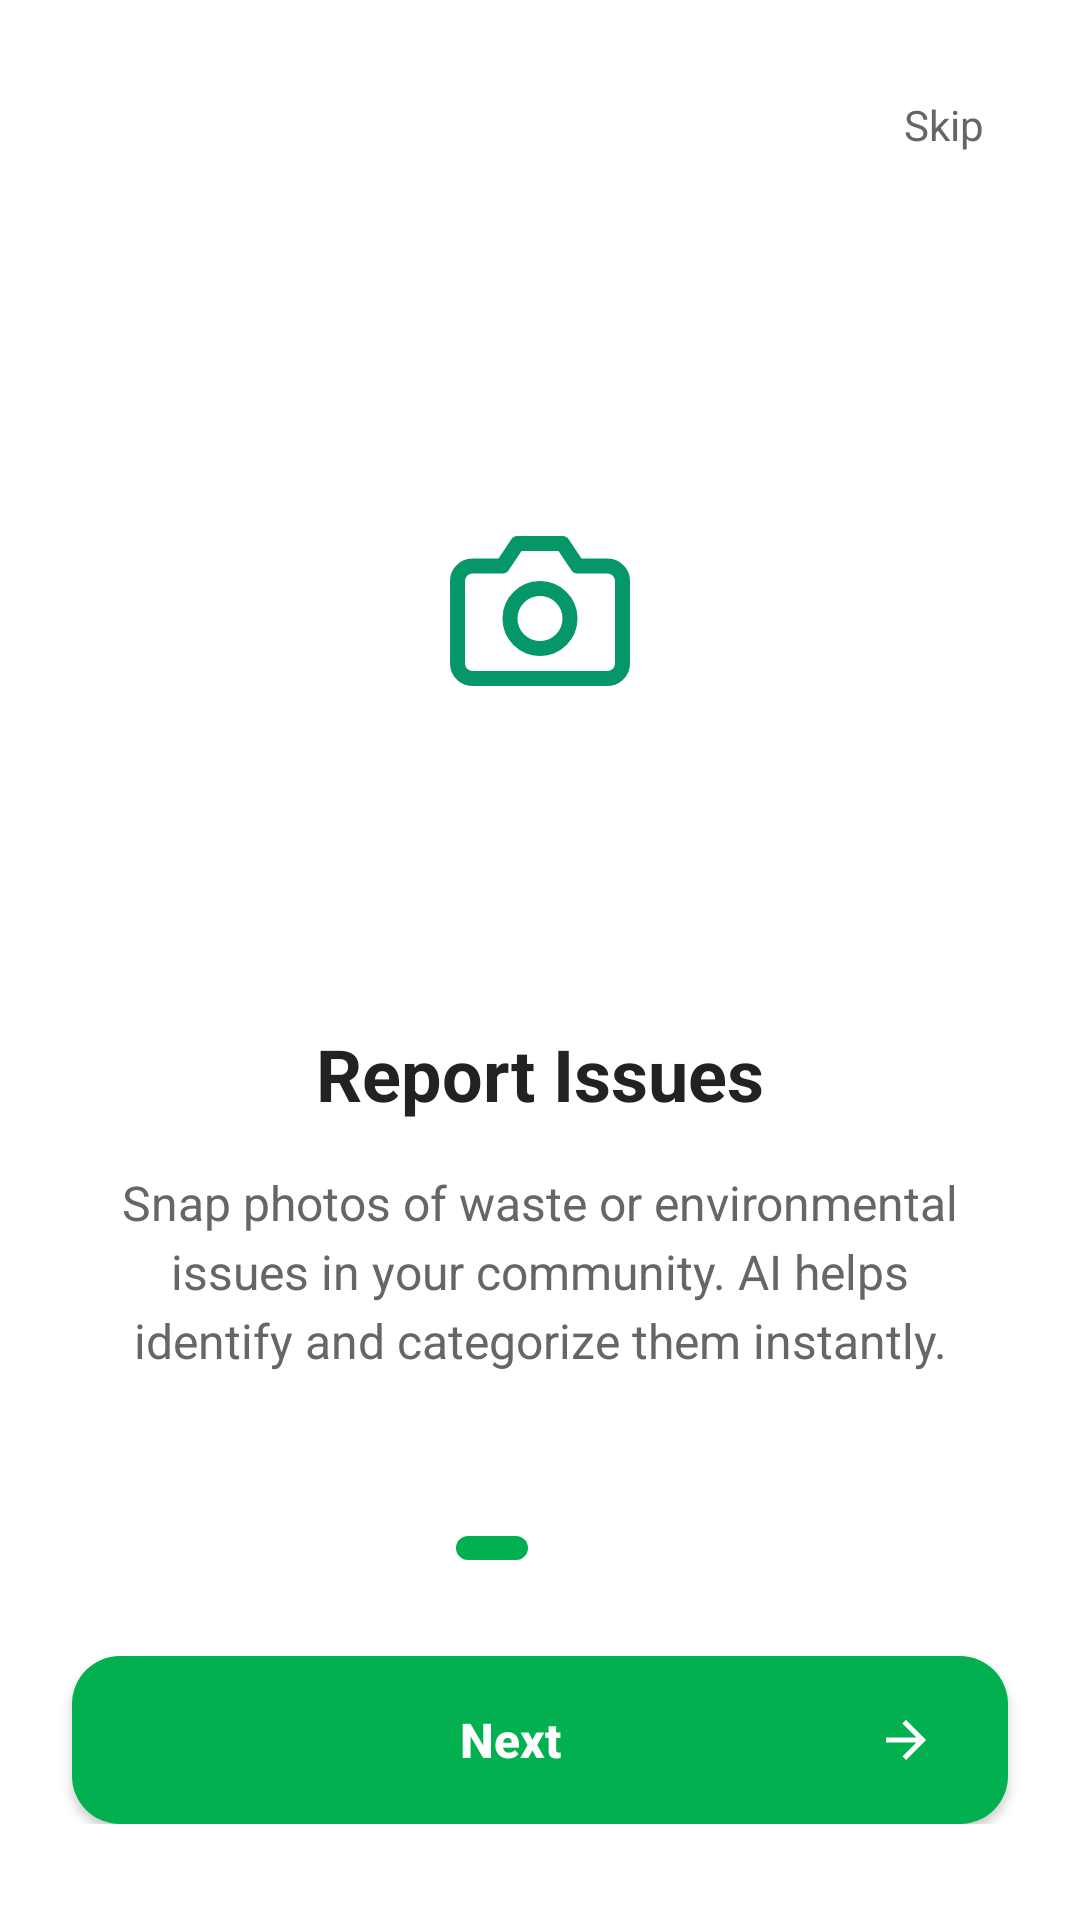

Icons on this 1080×1920 Android screen, each with the point to tap as (x,y):
camera: (540,611)
